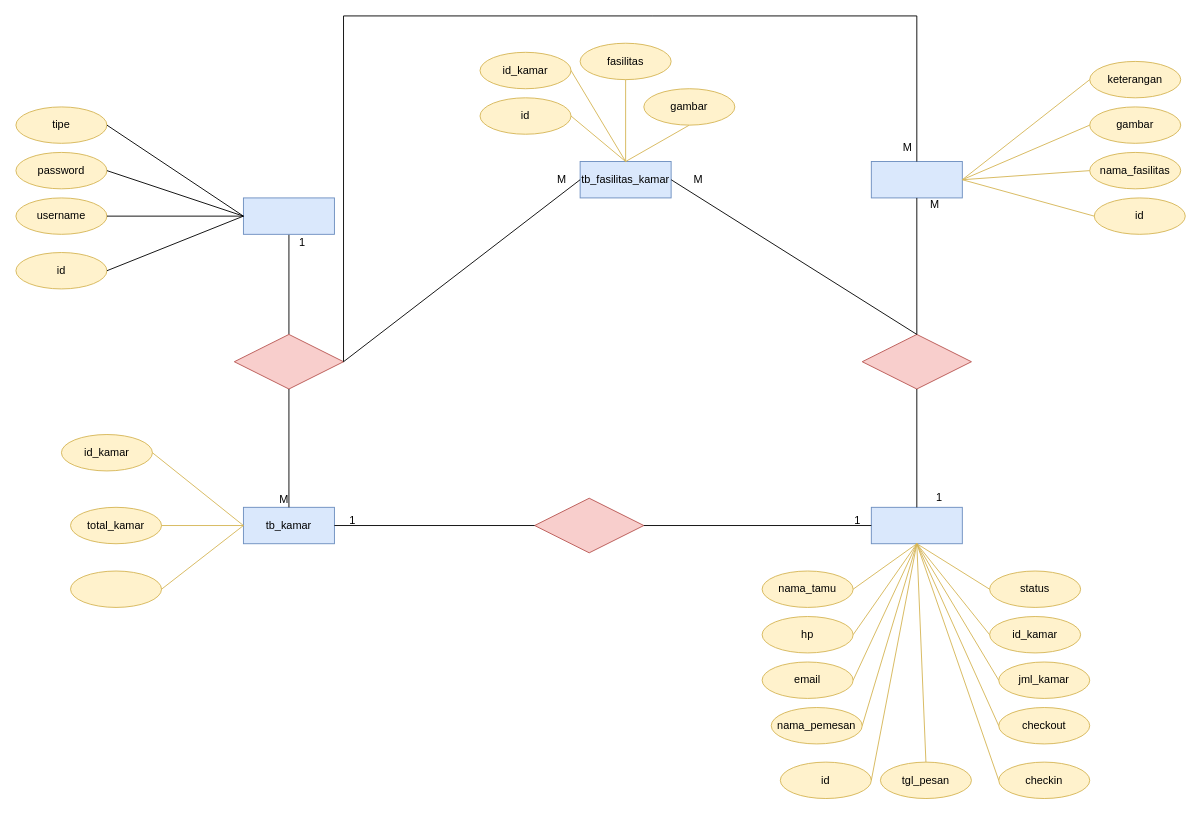
Image size: 1201x814. Some labels were removed from this diagram. Here are the shapes that lost their labels. From the top down, the centre of each, then its label:
At point (916, 179): "tb_fasilitas_umum".
At point (288, 215): "tb_user".
At point (288, 361): "mengelola".
At point (916, 361): "Melihat".
At point (589, 525): "Memesan".
At point (916, 525): "tb_pelanggan".
At point (116, 588): "nama_kamar".
